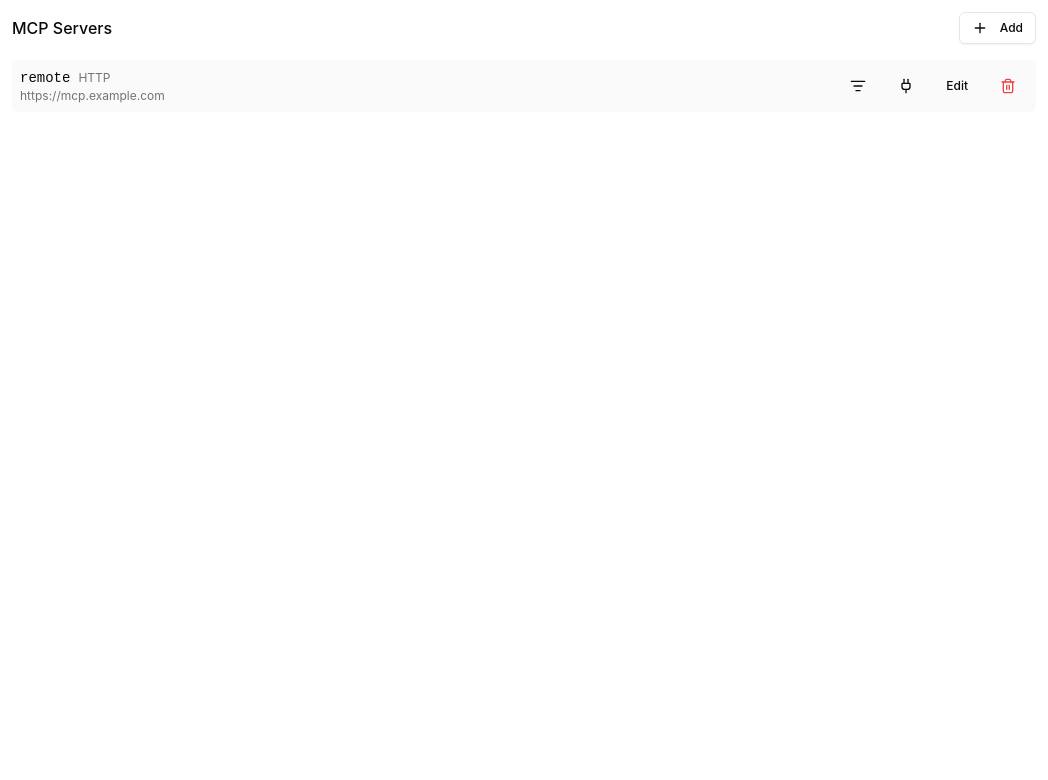
it: McpServerSection › rejects a header value with no name instead of silently dropping the row
Click the button "Edit" at coordinates (957, 86), box top-left (934, 70), bottom-right (980, 102)
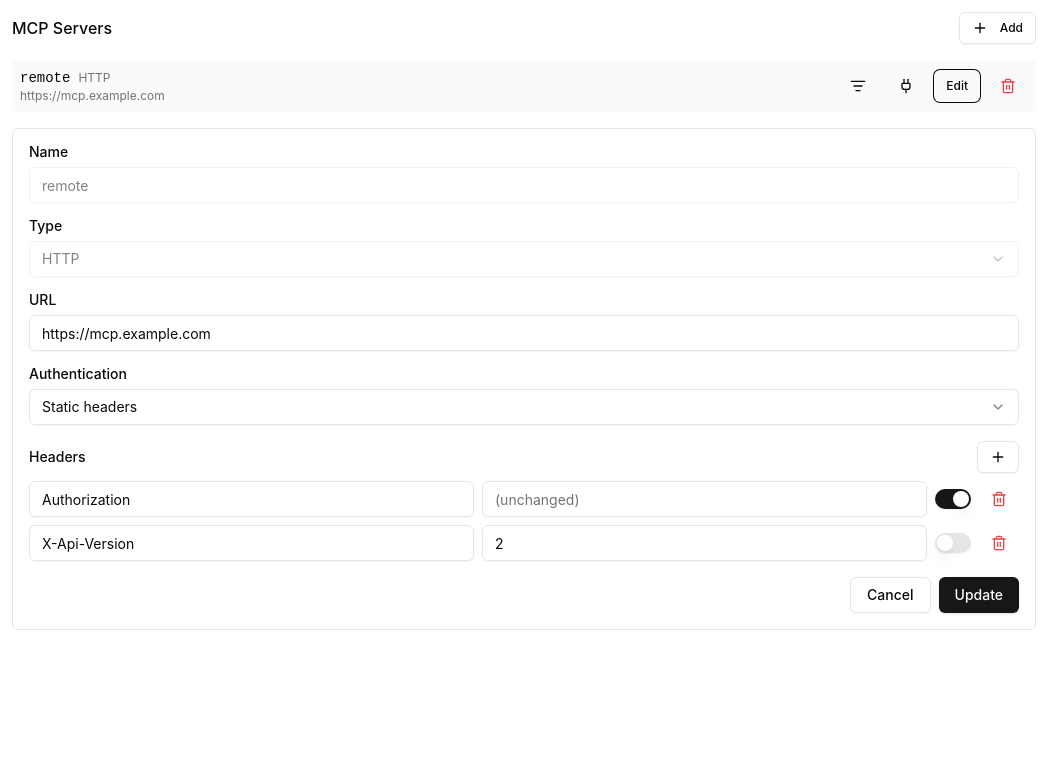
Click the button named "Add to Headers" at coordinates (998, 457), box top-left (977, 441), bottom-right (1019, 473)
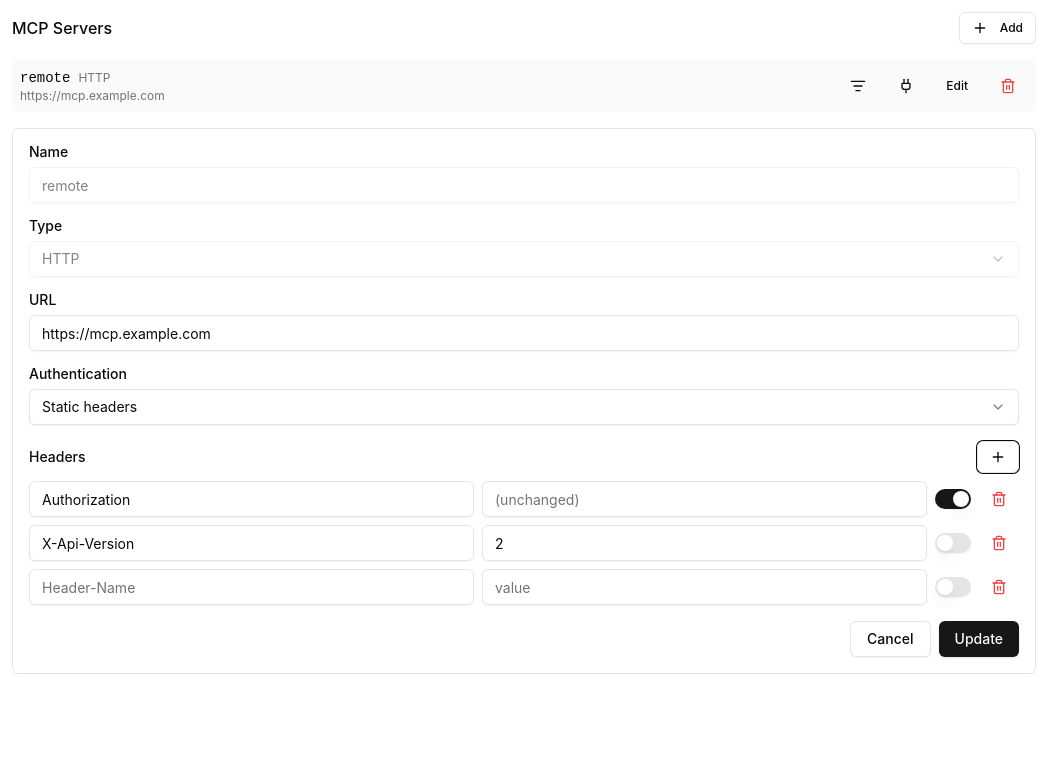
Type "orphan" into the field named "Headers value (row 3)" at coordinates (704, 587), box top-left (482, 569), bottom-right (927, 605)
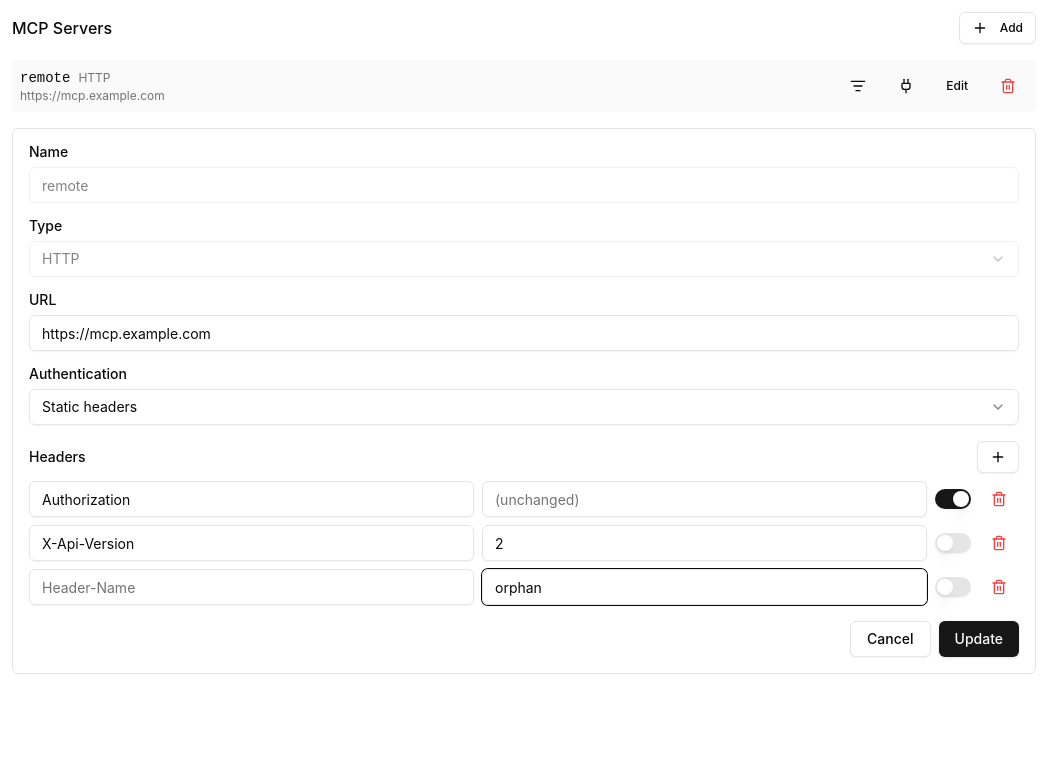
Click the button "Update" at coordinates (979, 639), box top-left (938, 621), bottom-right (1019, 657)
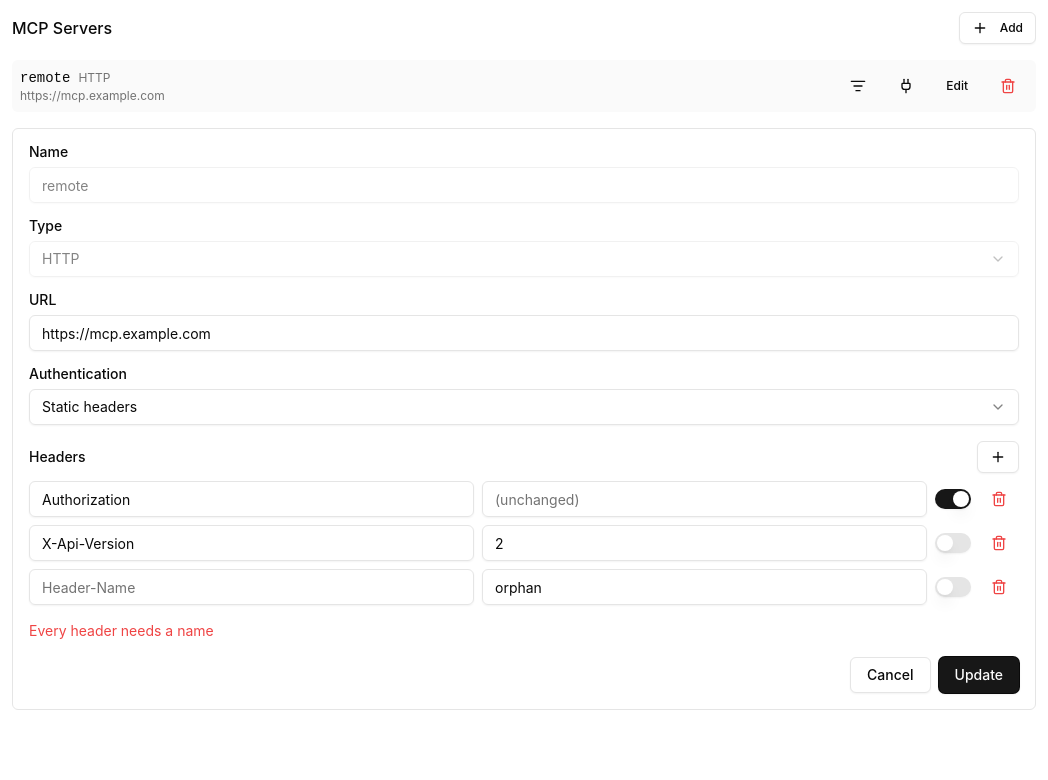
Result: the text "Every header needs a name" is shown at top-left (29, 622), bottom-right (214, 639)
